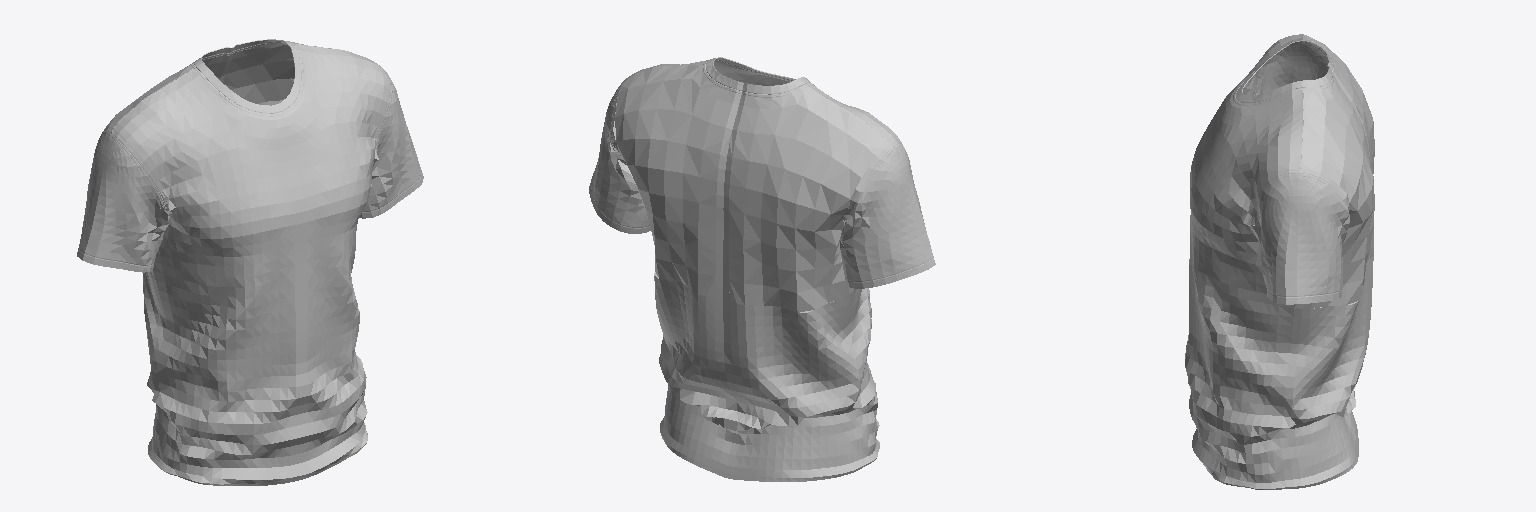
File: t-shirts-low-poly.obj
The picture shows the model from 3 angles: view 1: azimuth 30°, elevation 25°; view 2: azimuth 150°, elevation 25°; view 3: azimuth 270°, elevation 25°; orthographic projection.
Parts seen in each view (by area): view 1: T_Shirt_male_T_Shirt_male.001; view 2: T_Shirt_male_T_Shirt_male.001; view 3: T_Shirt_male_T_Shirt_male.001.
Part boxes in pixels (bbox=[...]): T_Shirt_male_T_Shirt_male.001: bbox=[77, 39, 423, 485]; T_Shirt_male_T_Shirt_male.001: bbox=[589, 57, 935, 481]; T_Shirt_male_T_Shirt_male.001: bbox=[1185, 34, 1374, 489].
Bounding box in the file's own units: 49.86 × 54.59 × 24.